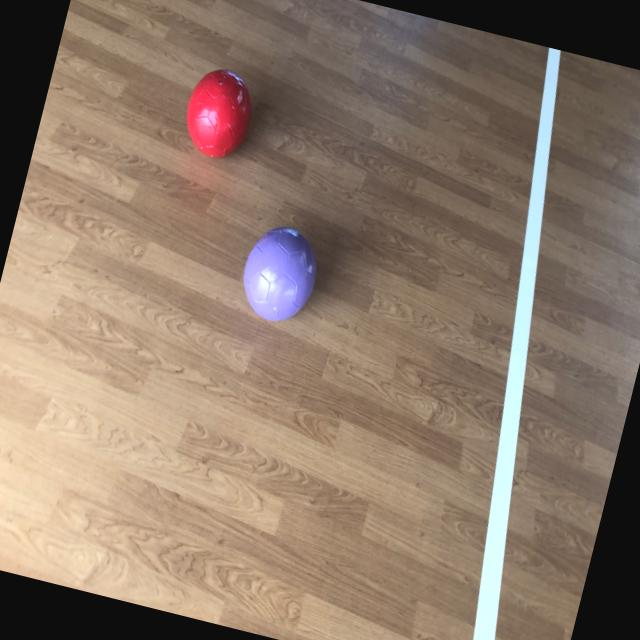purple_ball: (236, 222, 324, 328)
red_ball: (176, 63, 262, 164)
